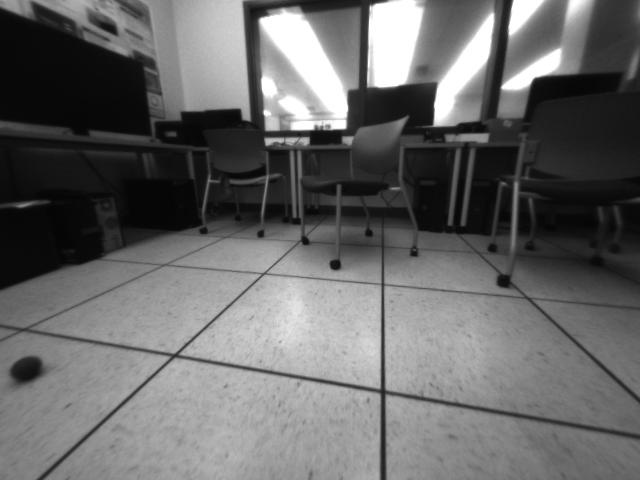dogtoy: (4, 346, 52, 392)
